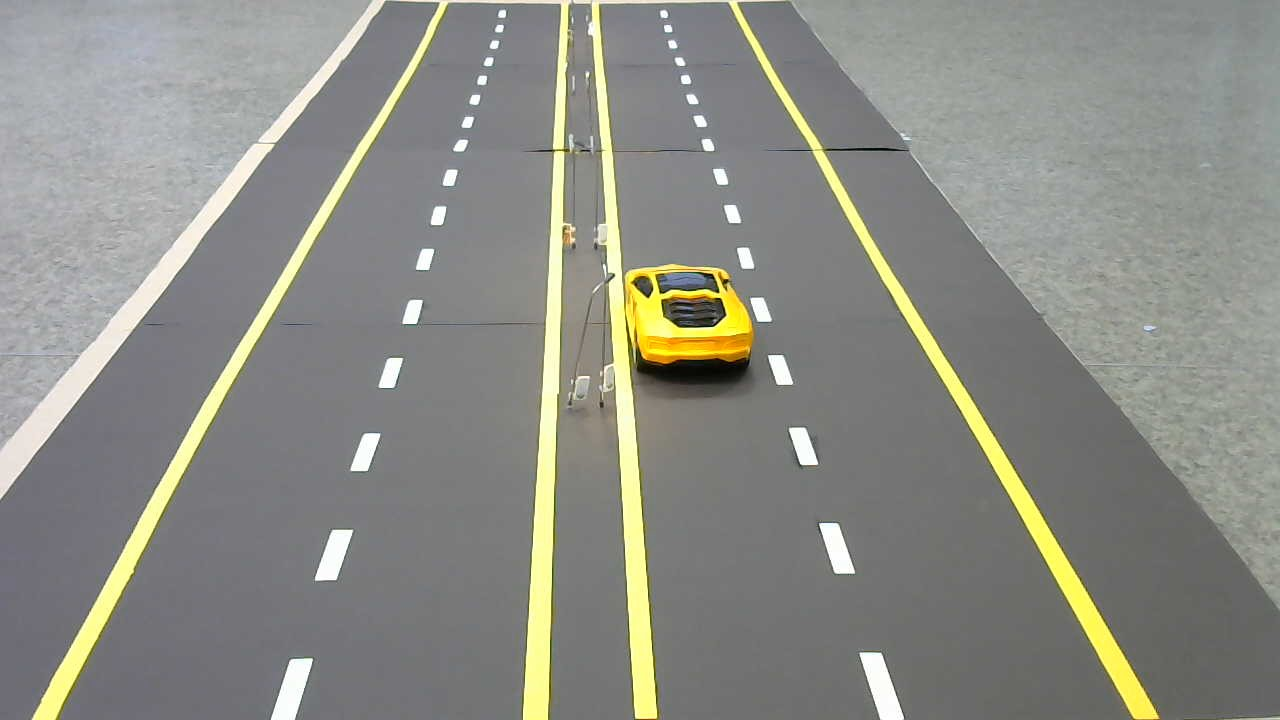back_car: (620, 260, 761, 381)
